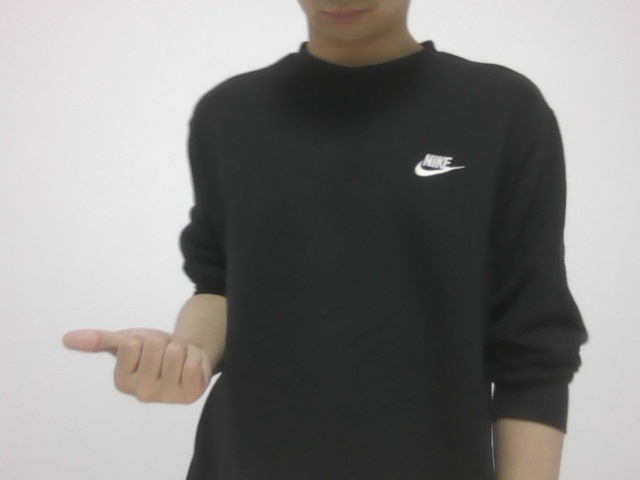have: (52, 323, 229, 411)
